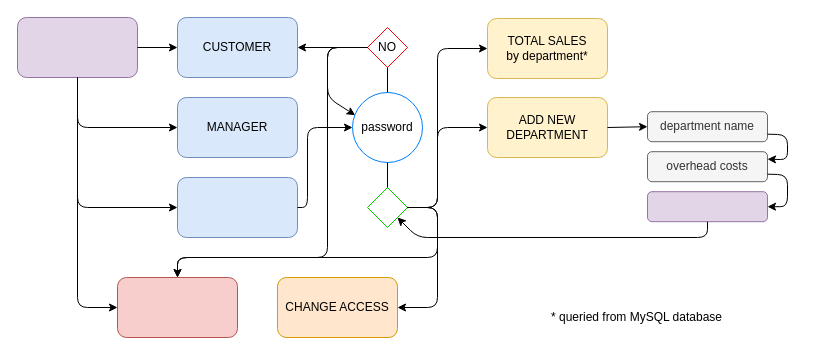
The diagram is 813 pixels wide and 355 high, and some of its shapes have lost their labels. The shapes that lost their labels are listed below. From the top down, each one's centre as x and y in pixels, then its label:
point (77, 47): MAIN MENU
point (237, 207): SUPERVISOR
point (387, 207): YES
point (707, 206): department table*
point (177, 307): EXIT
